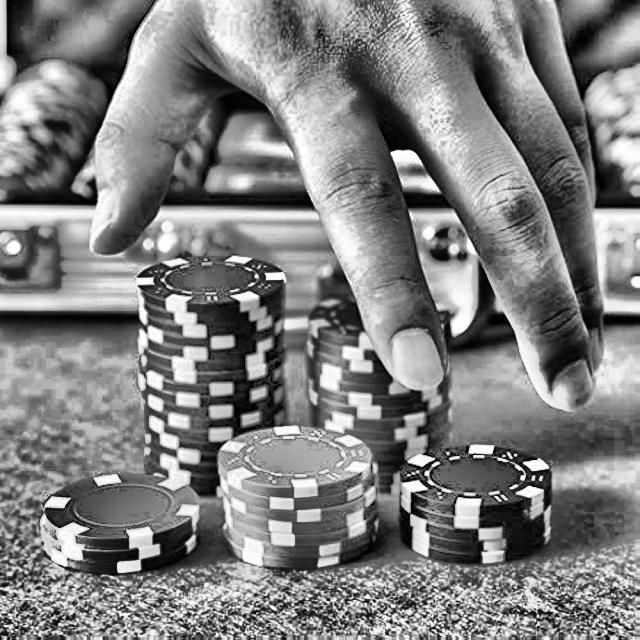Chip: (138, 251, 293, 503), (301, 283, 459, 504), (202, 421, 384, 567), (398, 443, 558, 569), (37, 470, 211, 580)
